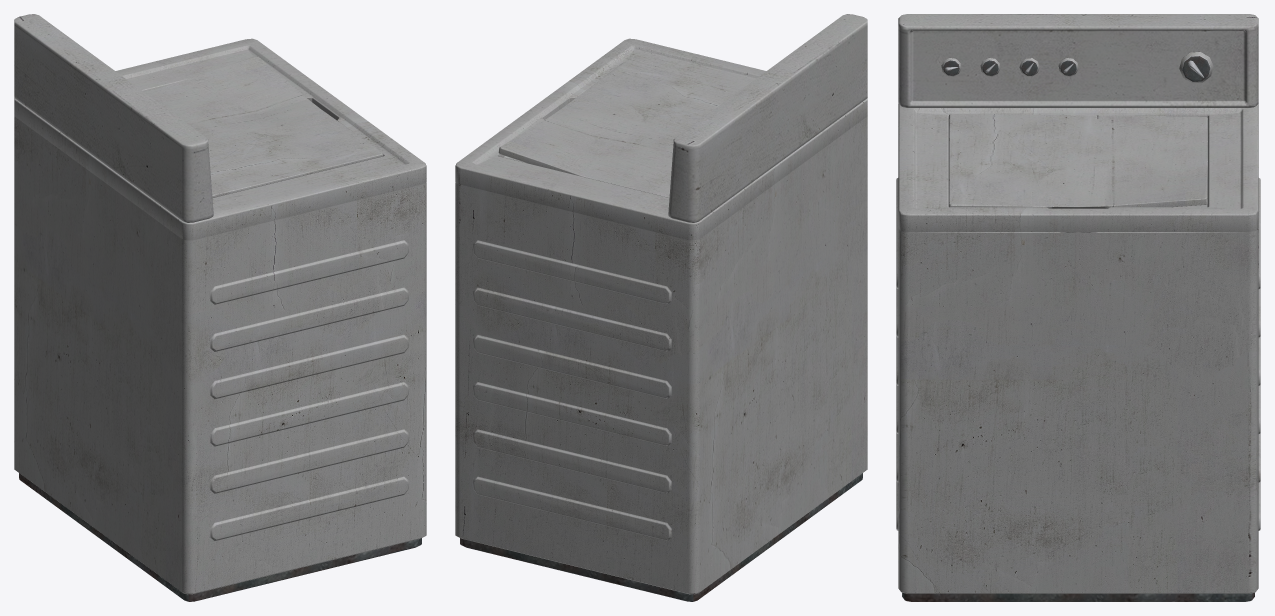
The model's file is SM_WashingMachineA.FBX.
The picture shows the model from 3 angles, left to right: view 1: azimuth 30°, elevation 25°; view 2: azimuth 150°, elevation 25°; view 3: azimuth 270°, elevation 25°; orthographic projection. The views are drawn at different scales.
Visible parts, largest first — view 1: SM_WashingMachineA_LOD0; view 2: SM_WashingMachineA_LOD0; view 3: SM_WashingMachineA_LOD0.
Boxes of the visible parts, <box> form: SM_WashingMachineA_LOD0: <box>14,14,426,601</box>; SM_WashingMachineA_LOD0: <box>455,14,867,601</box>; SM_WashingMachineA_LOD0: <box>896,14,1260,601</box>.
Size of what is drawn, in the model's own units: 77.8 by 140 by 98.35.
